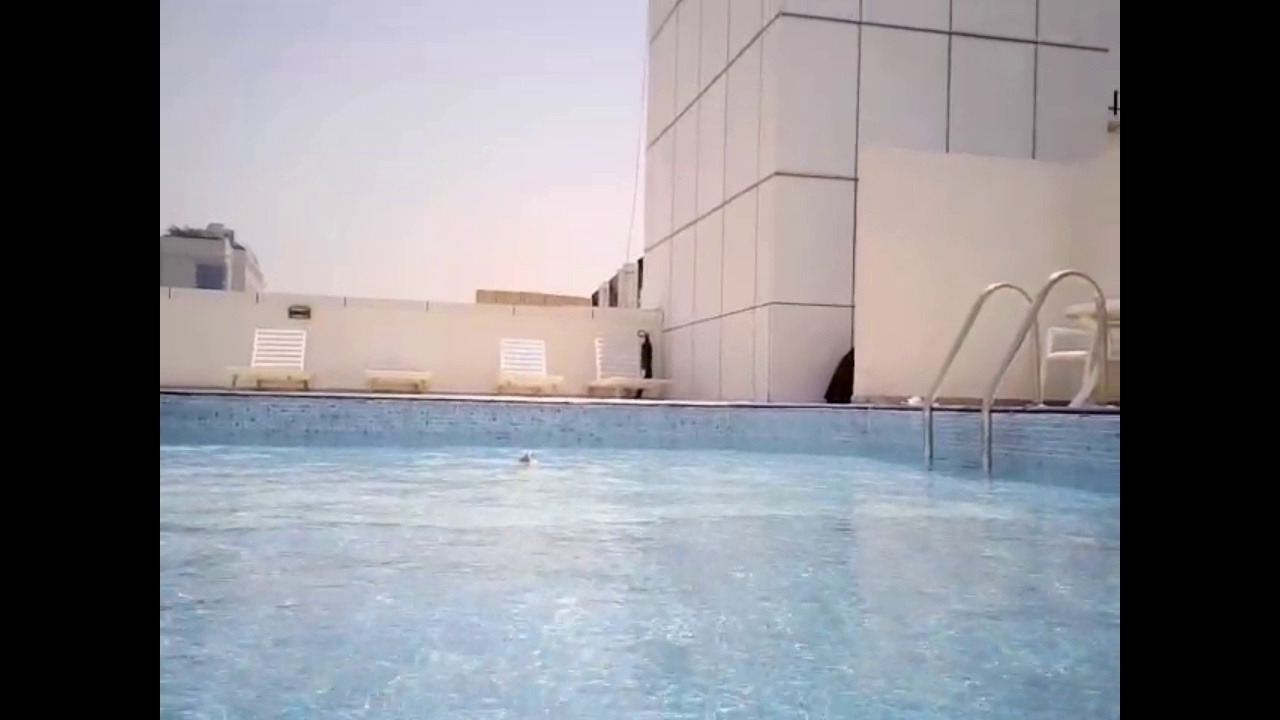debris: (510, 447, 543, 472)
